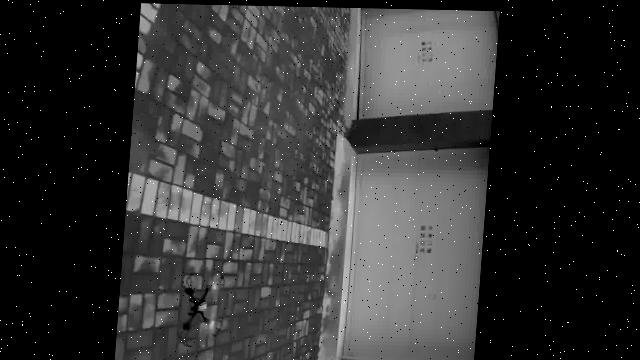drone: (170, 264, 237, 351)
